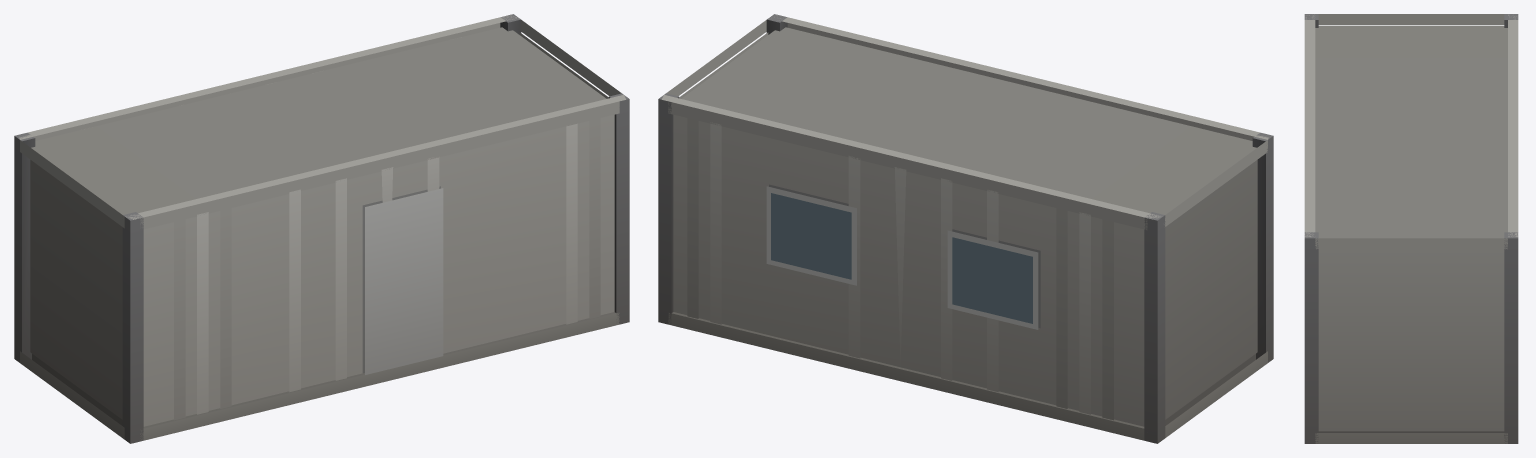
File: box_office.lod.glb
The picture shows the model from 3 angles, left to right: view 1: azimuth 30°, elevation 25°; view 2: azimuth 150°, elevation 25°; view 3: azimuth 270°, elevation 25°; orthographic projection. The views are drawn at different scales.
Visible parts, largest first — view 1: box_office; view 2: box_office; view 3: box_office.
Part boxes in pixels (x1,y1,x2,y2): box_office: (14, 14, 629, 443); box_office: (658, 14, 1273, 443); box_office: (1304, 14, 1518, 443).
Size of the model in its own units: 6.06 by 2.59 by 2.51.
